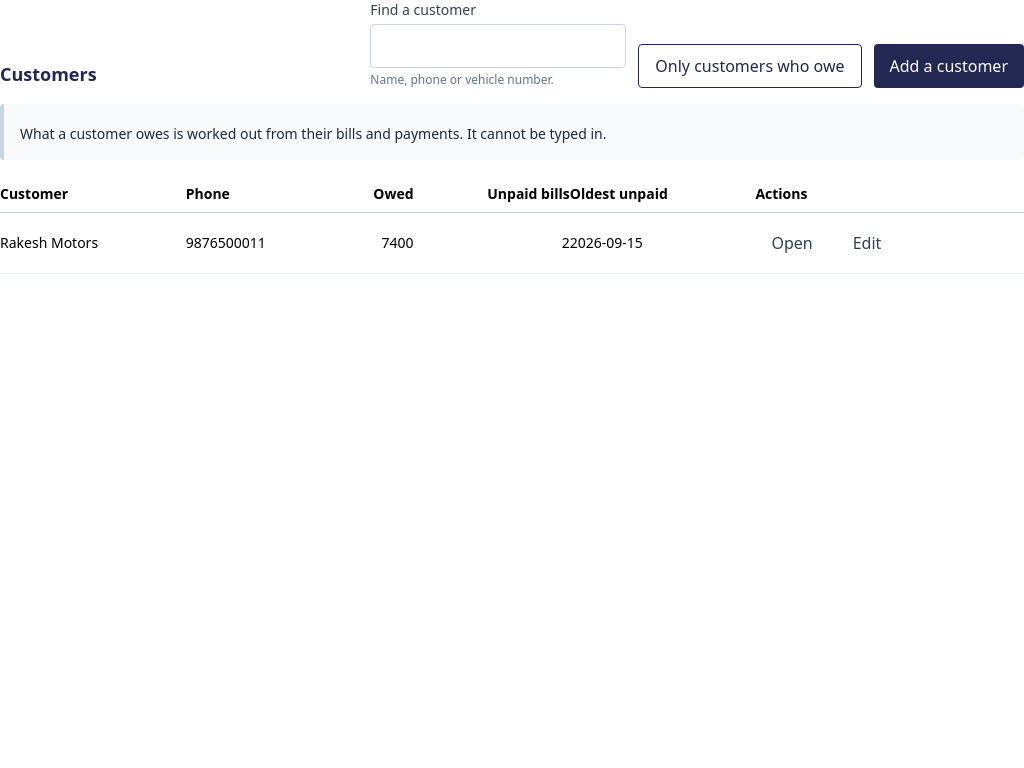
Test: creating and editing › requires a name
The width and height of the screenshot is (1024, 768).
expect the text "Rakesh Motors" is shown: met, box [0, 213, 186, 274]
Click the button "Add a customer" at (949, 66), box [874, 44, 1023, 88]
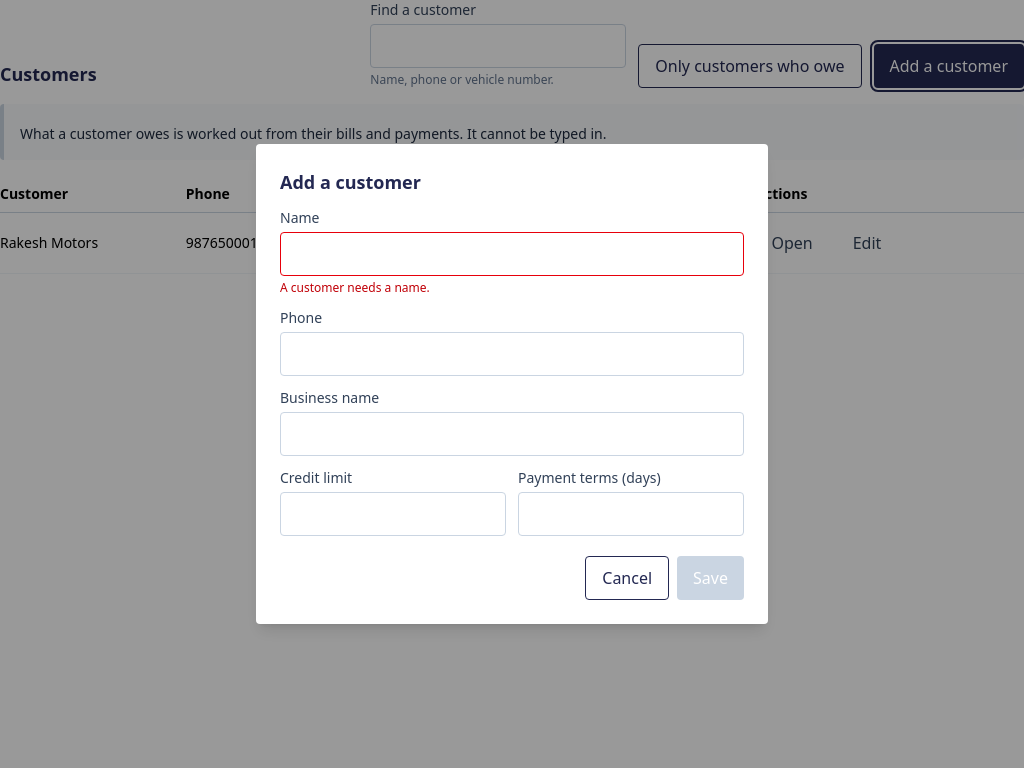
expect the text "A customer needs a name." is shown: met, box [280, 279, 430, 296]
expect the button "Save" is disabled: met, box [677, 556, 744, 600]
